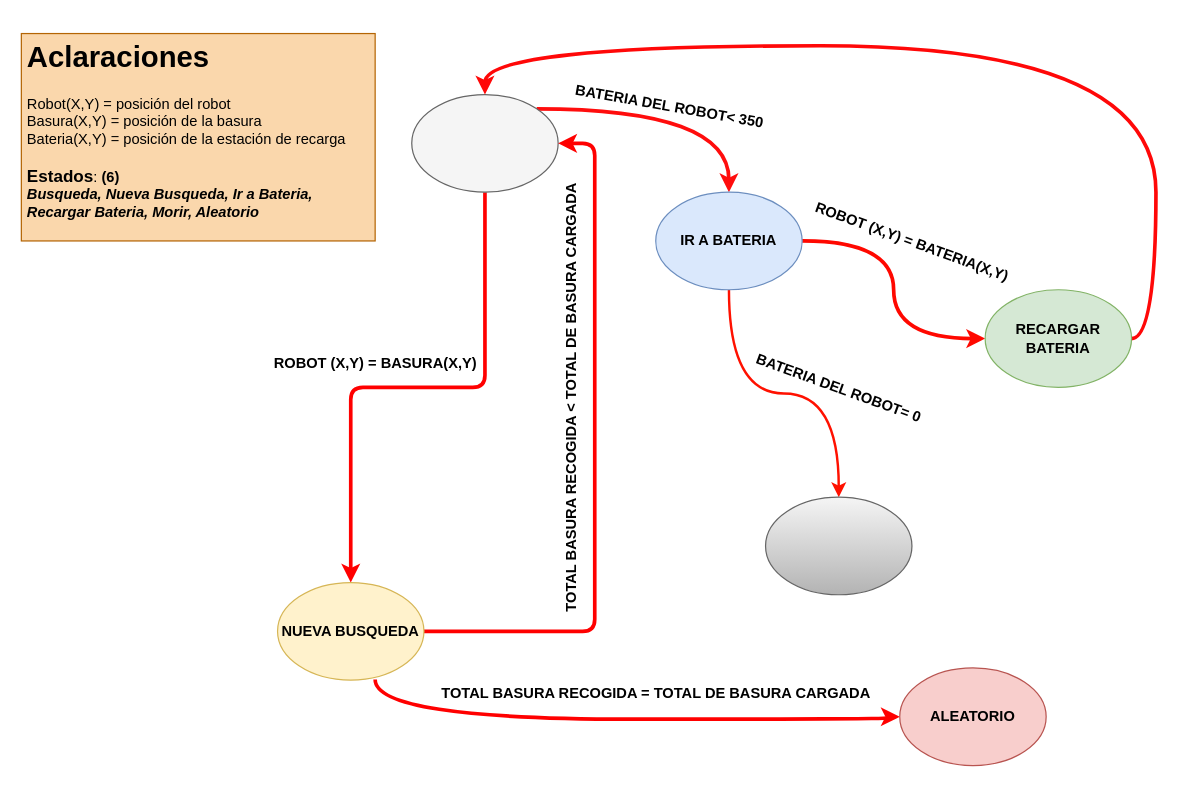
This 1179x787 diagram has some shape labels left out. The box of each missing label's shape, as (x1, y1, x2, y2) in pixels:
BUSQUEDA: (411, 93, 558, 192)
MORIR: (764, 496, 912, 595)
